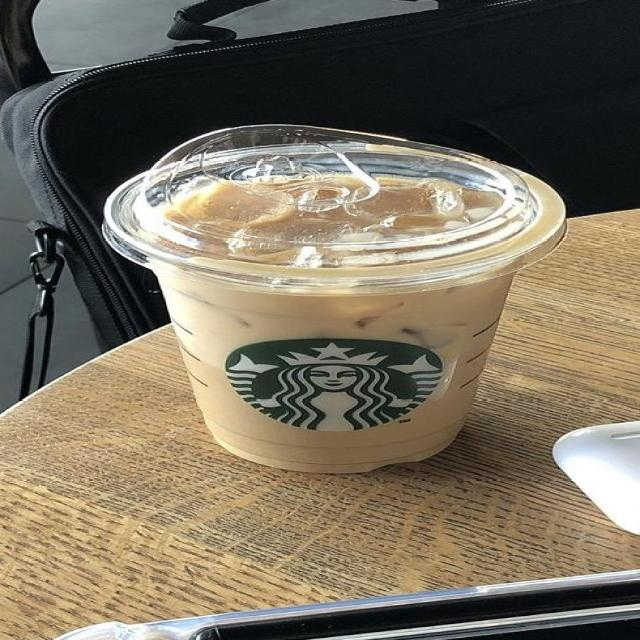plastic cup: (101, 124, 565, 475)
